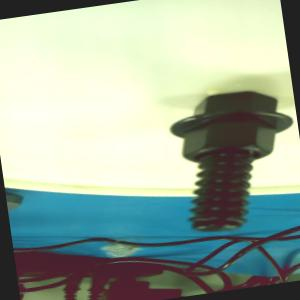parafuso: (160, 80, 300, 240)
